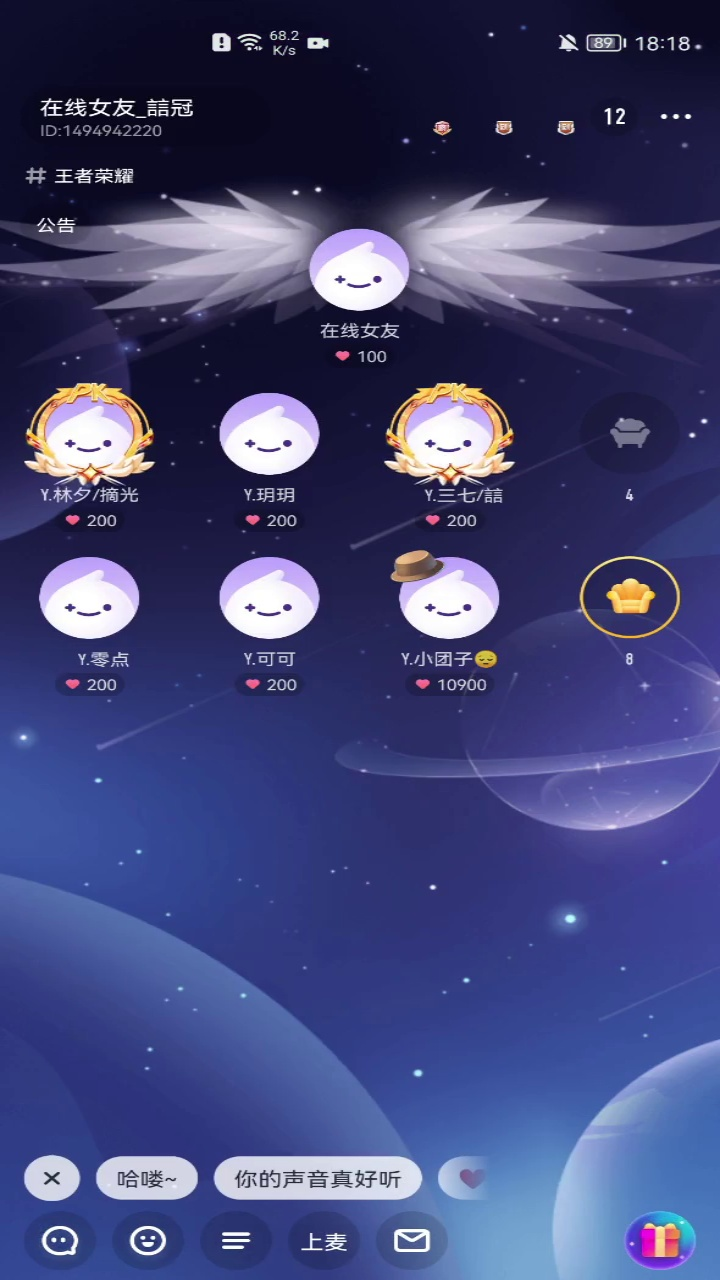avatar: (381, 378, 521, 486), (23, 378, 157, 488), (388, 541, 503, 642), (213, 389, 324, 480), (216, 552, 325, 642), (35, 552, 143, 641), (307, 226, 415, 313)
